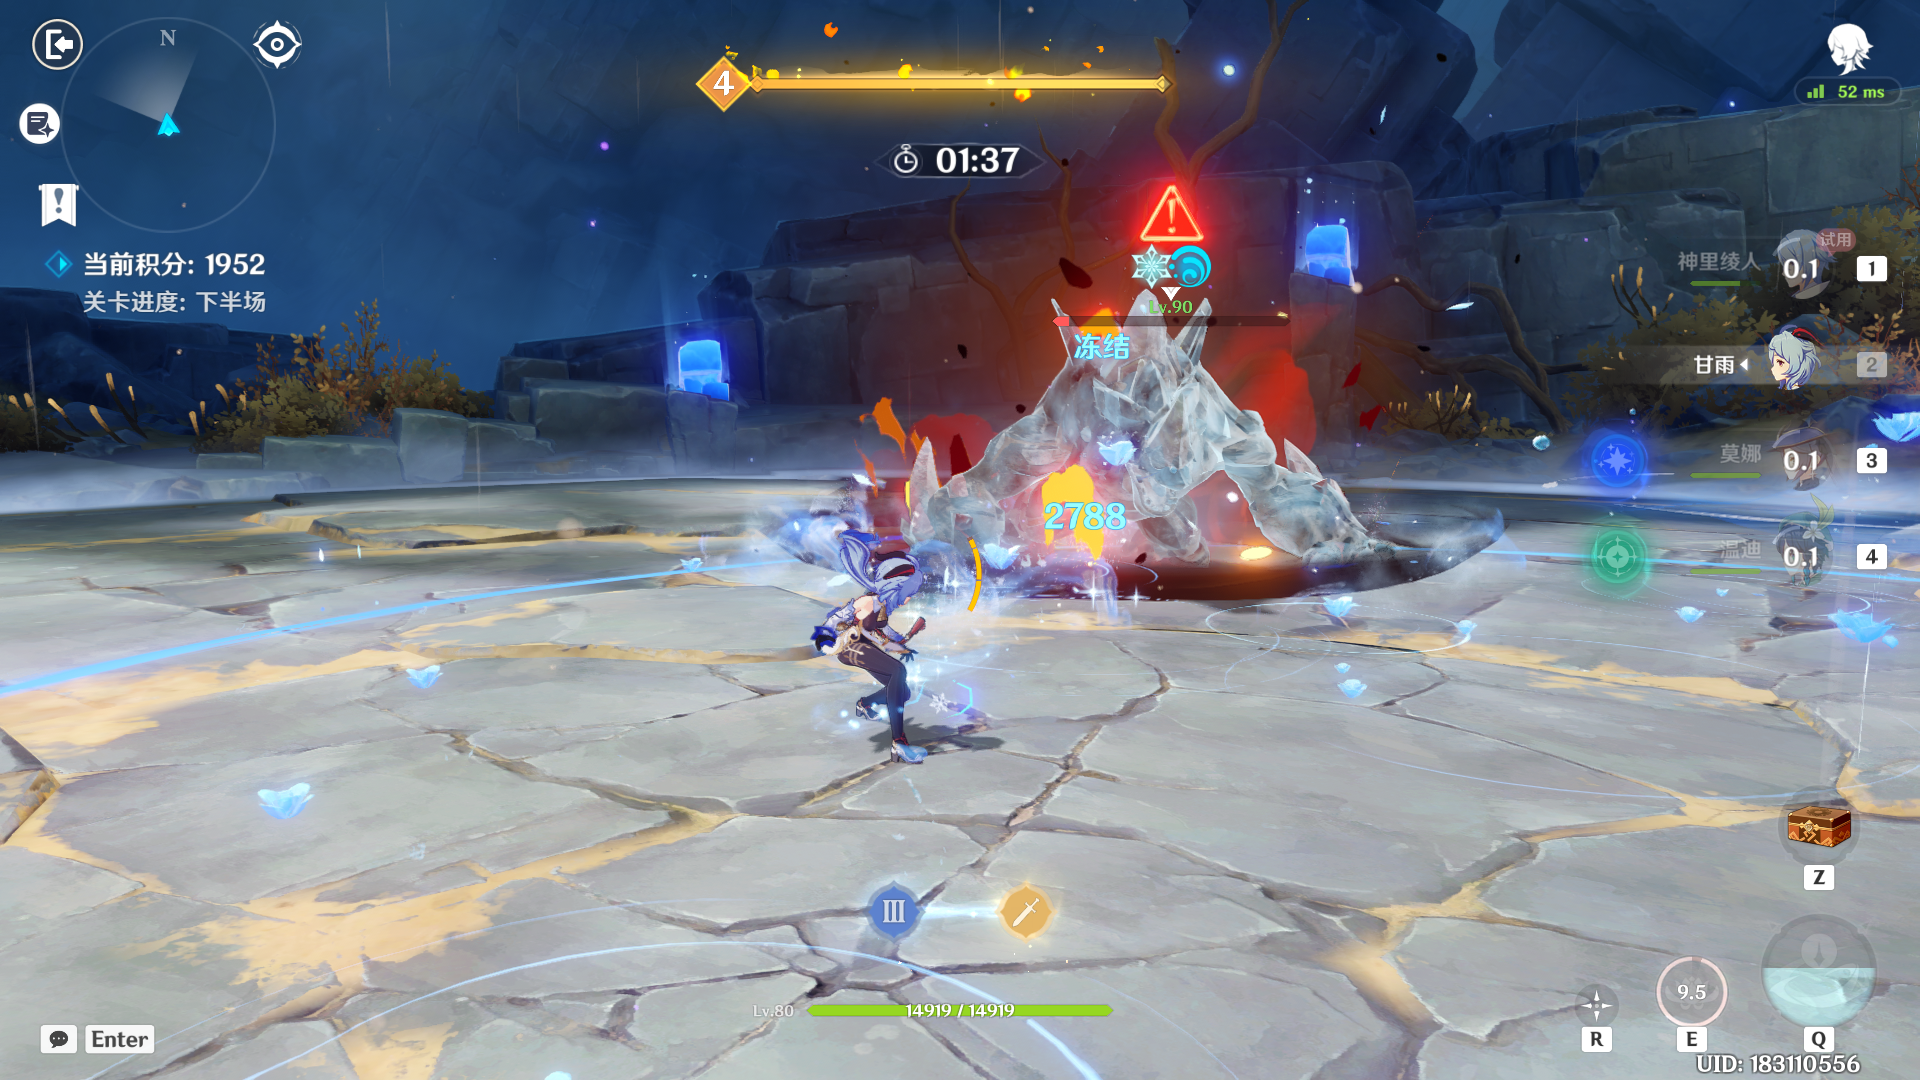character: (783, 489, 986, 795)
